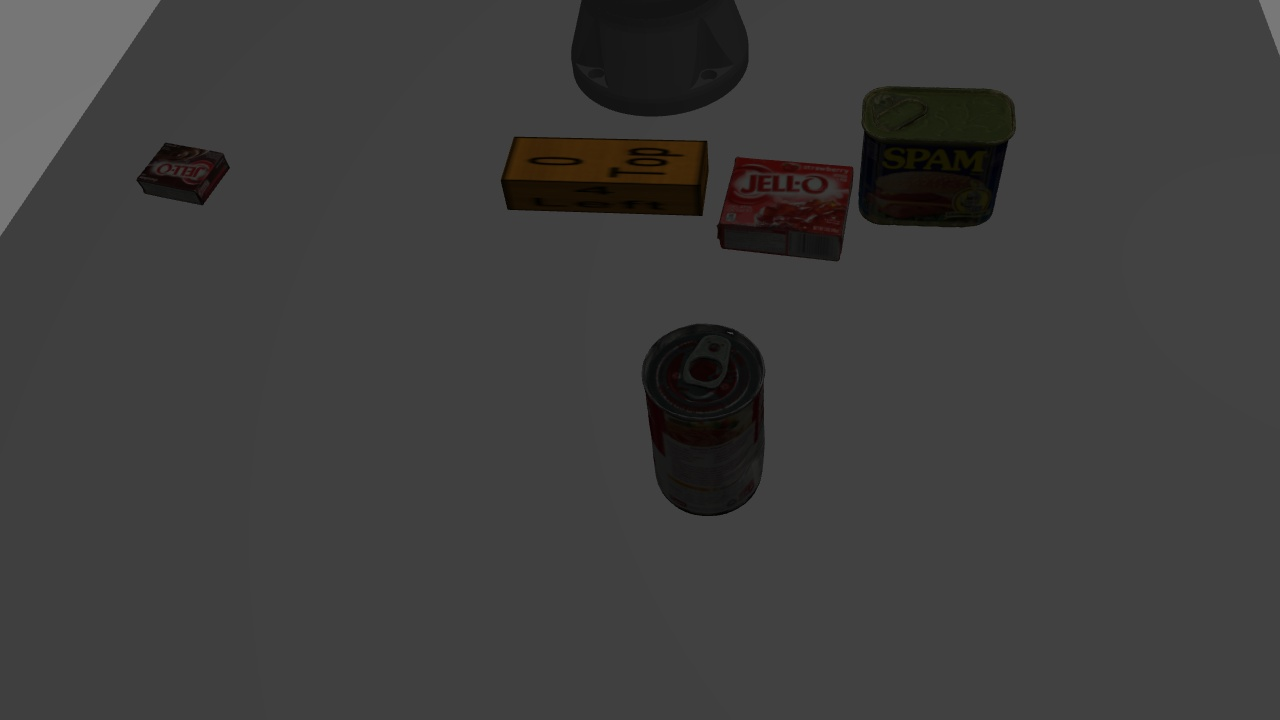gelatin_box: (711, 151, 851, 269)
jenga: (498, 128, 713, 220)
potted_meat_can: (856, 85, 1004, 231)
pudding_box: (133, 139, 232, 207)
tomato_soup_can: (640, 319, 767, 517)
